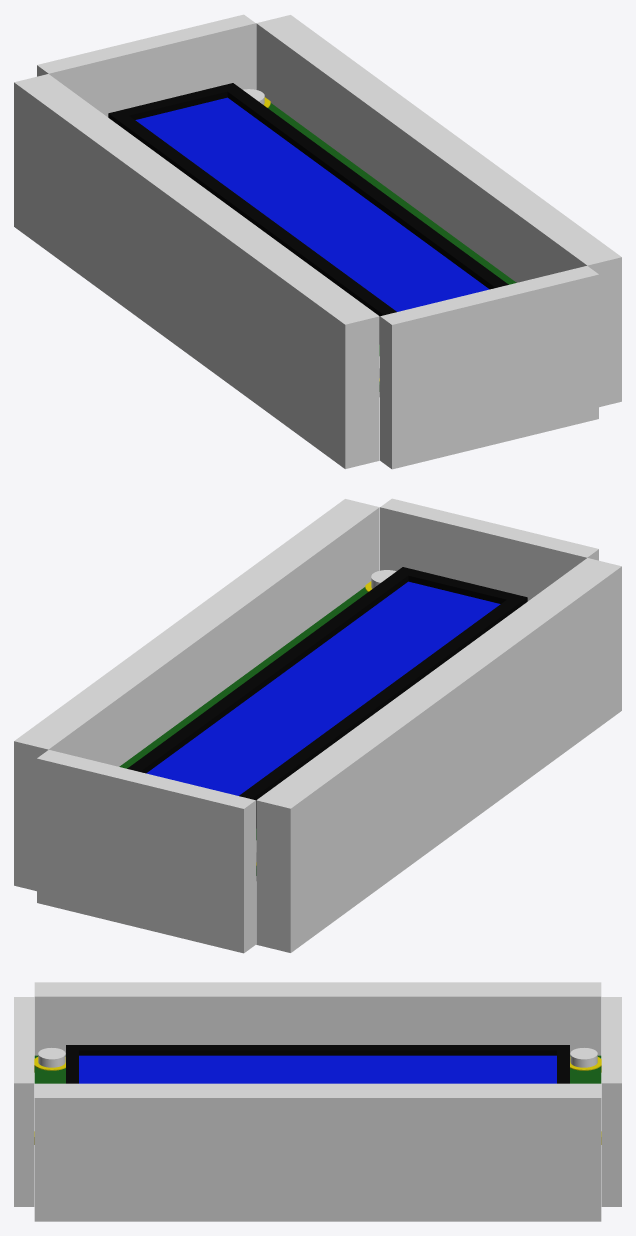
File: Display LCD 16x2 v1.fbx
3 renders of one model, top to bottom at view 1: azimuth 30°, elevation 25°; view 2: azimuth 150°, elevation 25°; view 3: azimuth 270°, elevation 25°, orthographic. The views are drawn at different scales.
Visible parts, largest first — view 1: Cube.004, Cube.003, Cube.005, Cube.002, Cube.001, Cube; view 2: Cube.004, Cube.003, Cube.005, Cube.001, Cube.002, Cube; view 3: Cube.003, Cube.004, Cube.005, Cube.001, Cube.002, Cube, Cylinder.008, Cylinder.006.
Part boxes in pixels (x1,y1,x2,y2): Cube.004: (14,74,379,468); Cube.003: (256,15,621,407); Cube.005: (108,83,508,344); Cube.002: (380,266,598,469); Cube.001: (37,14,255,117); Cube: (268,103,516,391); Cube.004: (256,558,621,952); Cube.003: (14,499,379,891); Cube.005: (127,567,527,828); Cube.001: (37,750,255,953); Cube.002: (380,498,598,601); Cube: (119,587,367,875); Cube.003: (34,1083,601,1221); Cube.004: (34,982,601,1055); Cube.005: (66,1045,569,1083); Cube.001: (601,997,621,1206); Cube.002: (14,997,34,1206); Cube: (34,1055,601,1083); Cylinder.008: (38,1048,65,1067); Cylinder.006: (570,1048,597,1067).
Bounding box in the file's own units: 802 × 400 × 1782.
